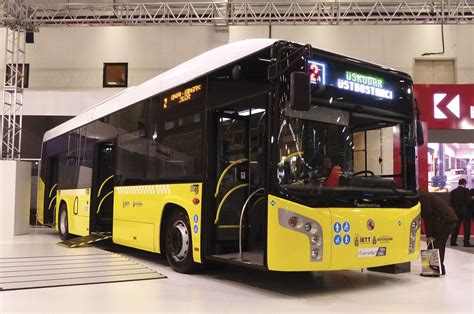bus: (36, 41, 420, 274)
